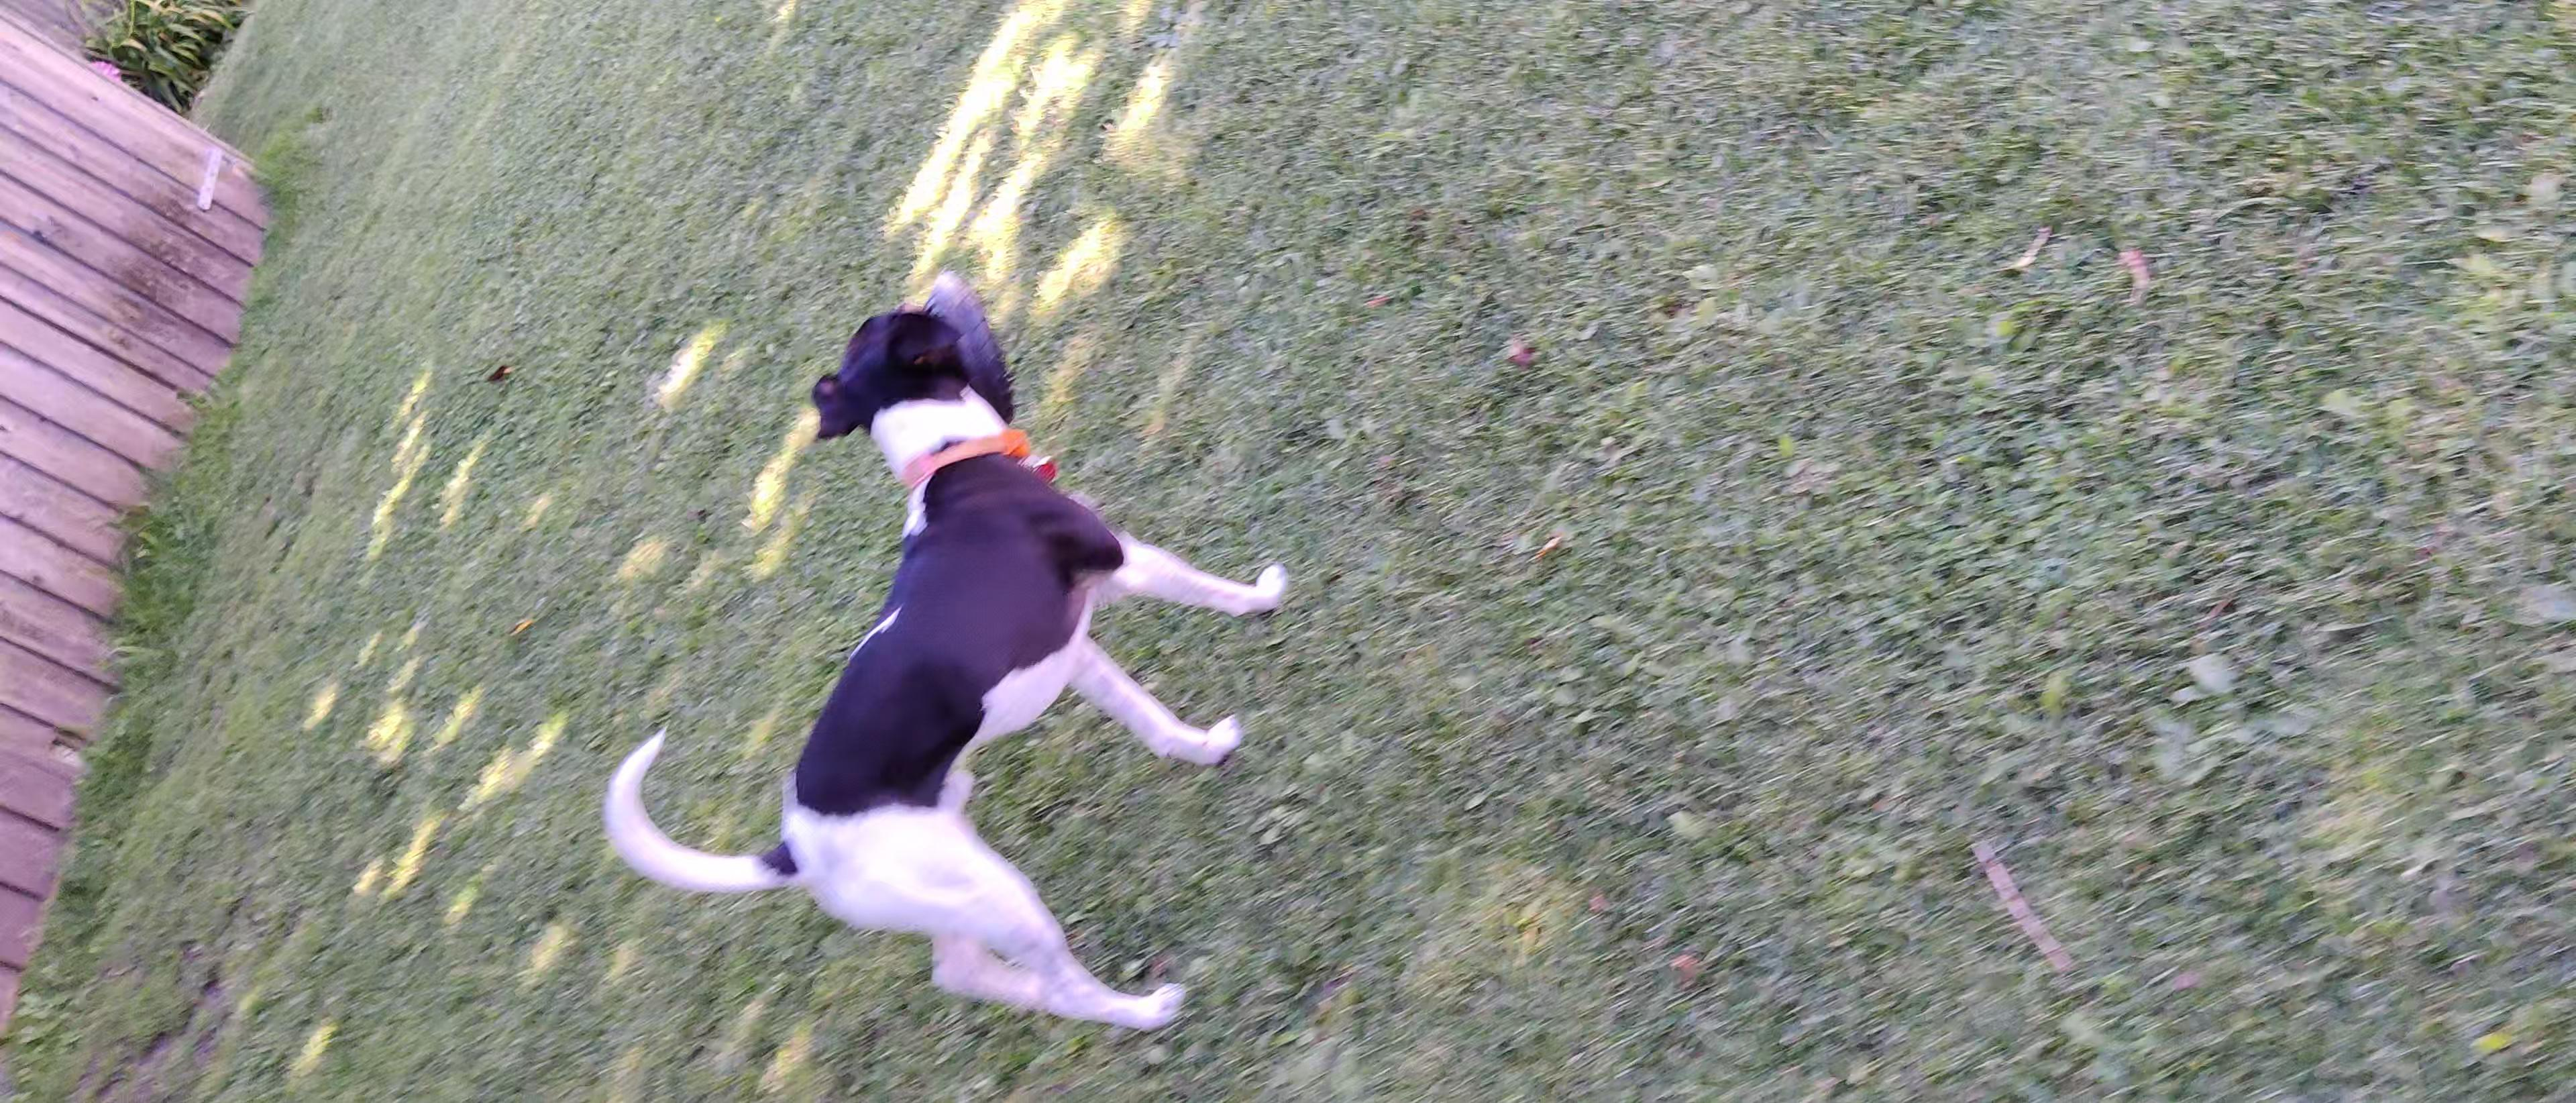Dog: (585, 253, 1298, 1052)
